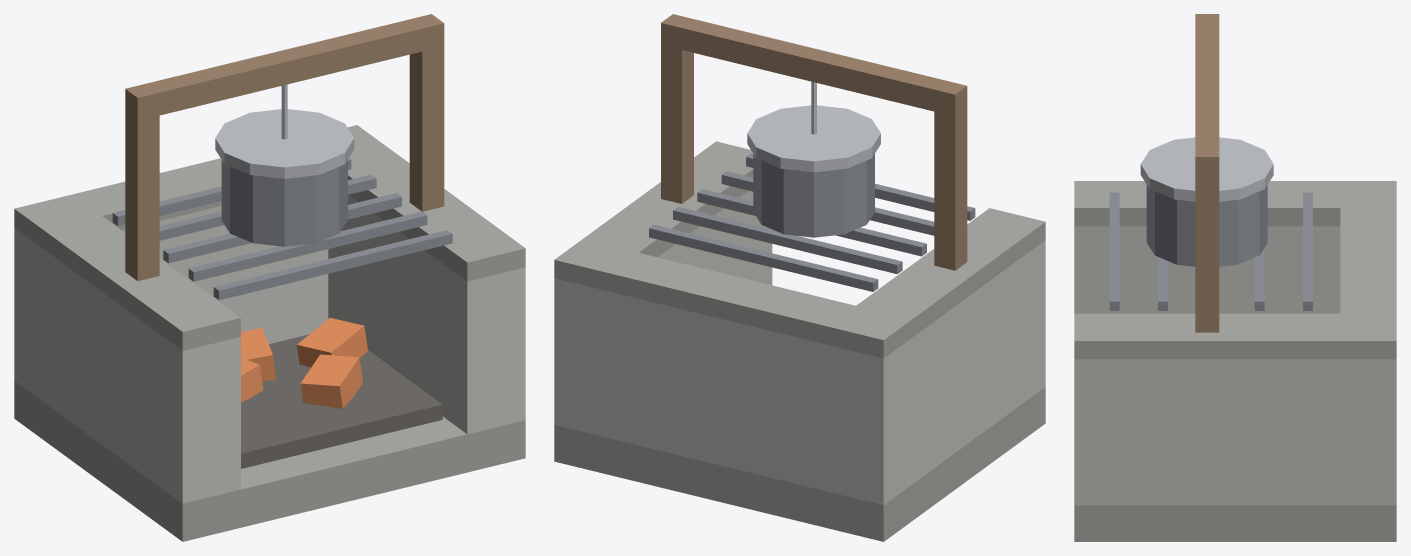
Rendered from furniture_kitchen.glb.
The picture shows the model from 3 angles, left to right: view 1: azimuth 30°, elevation 25°; view 2: azimuth 150°, elevation 25°; view 3: azimuth 270°, elevation 25°; orthographic projection. The views are drawn at different scales.
Visible parts, largest first — view 1: stone, stone_dark, wood_dark, metal_dark, soot, metal, ember; view 2: stone, stone_dark, wood_dark, metal_dark, metal; view 3: stone, stone_dark, metal_dark, wood_dark, metal.
Boxes of the visible parts, <box> form: stone: <box>14,195,525,503</box>; stone_dark: <box>14,125,525,541</box>; wood_dark: <box>125,14,444,280</box>; metal_dark: <box>112,158,452,300</box>; soot: <box>241,334,442,468</box>; metal: <box>215,84,354,178</box>; ember: <box>241,317,367,408</box>; stone: <box>554,190,1045,505</box>; stone_dark: <box>554,141,1045,541</box>; wood_dark: <box>661,14,967,270</box>; metal_dark: <box>649,153,975,291</box>; metal: <box>747,81,880,172</box>; stone: <box>1074,226,1396,505</box>; stone_dark: <box>1074,181,1396,541</box>; metal_dark: <box>1109,185,1312,310</box>; wood_dark: <box>1195,14,1219,332</box>; metal: <box>1140,137,1273,201</box>.
Bounding box in the file's own units: 0.94 × 1.03 × 0.8.
